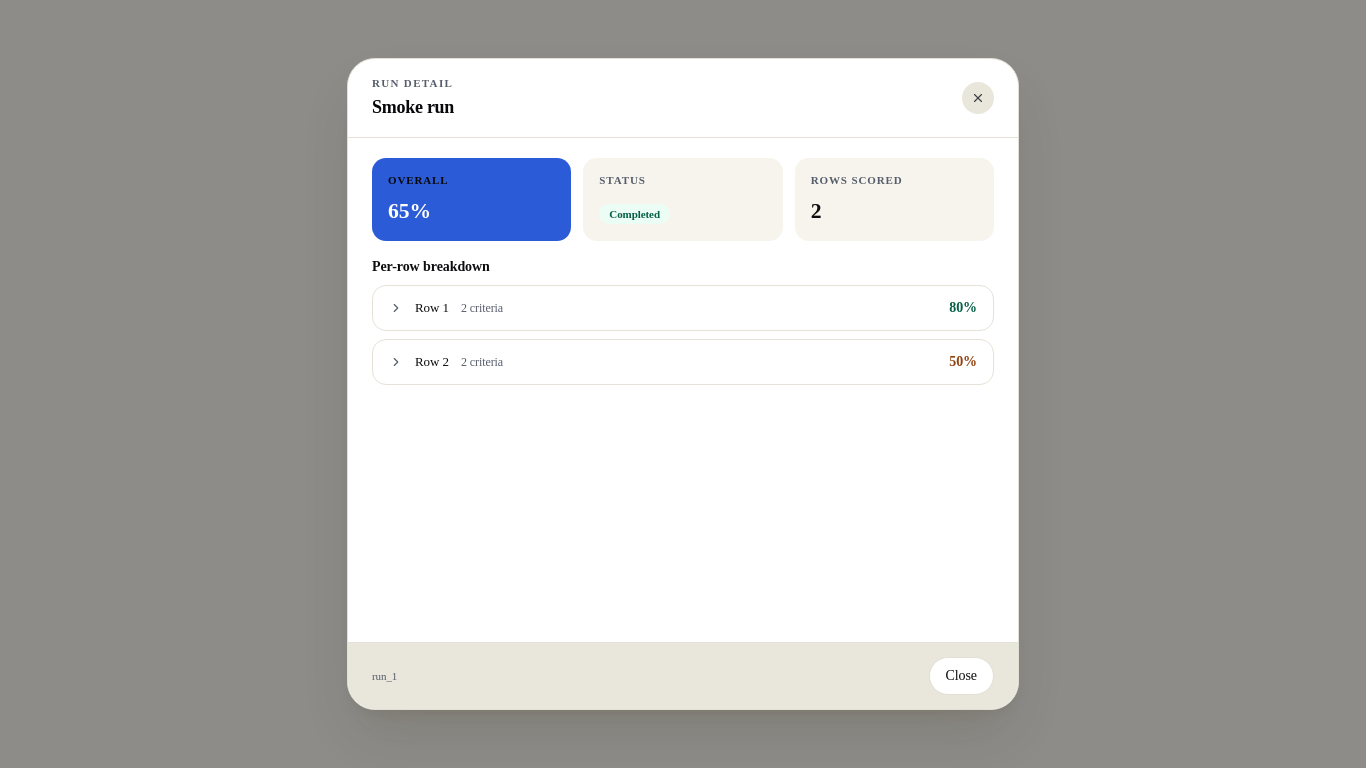
RunDetailModal › reveals per-criterion detail only for the toggled row
Expected: the text "R0 accuracy." is not shown
Click the text "Row 1": coordinates (432, 308) [415,298,449,318]
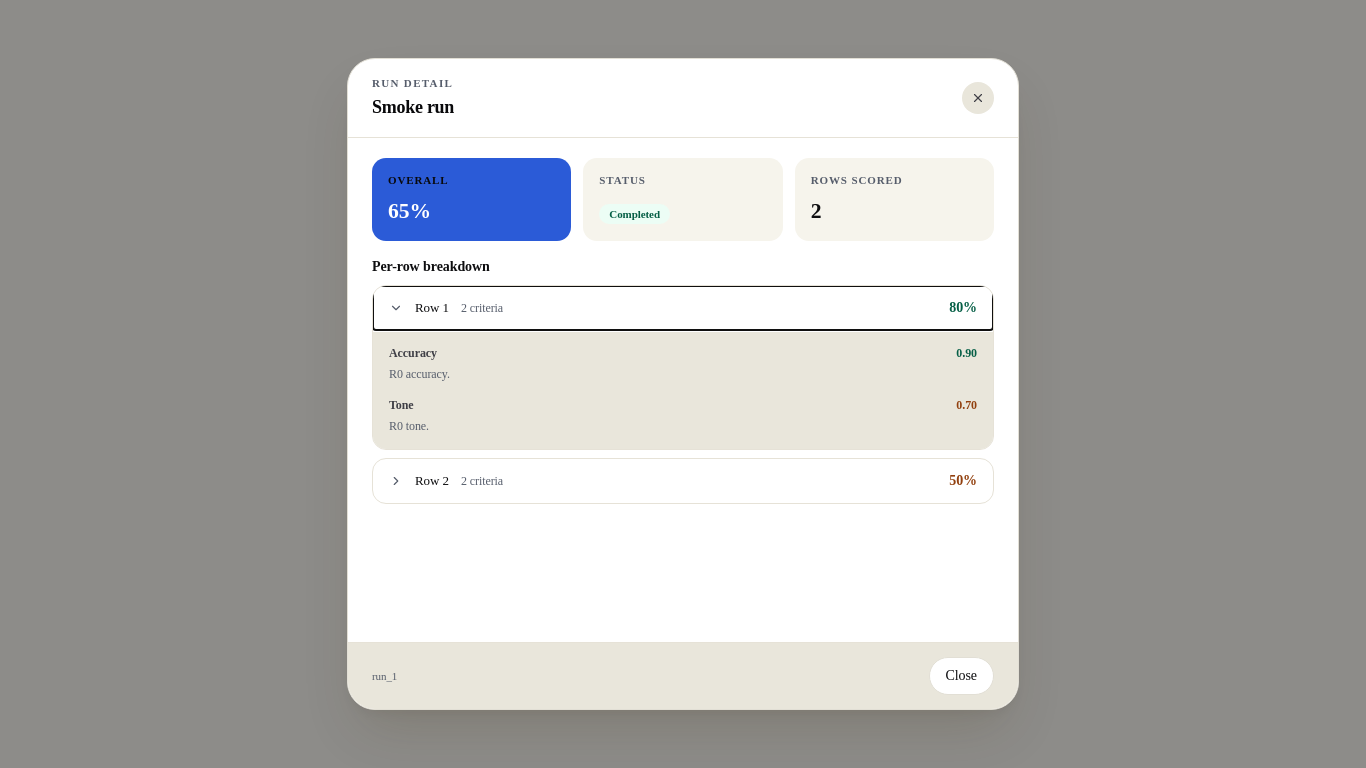
Expected: the text "R0 accuracy." is shown, [389,367,450,381]
Expected: the text "R0 tone." is shown, [389,419,429,433]
// Toggling closed hides it again.
Click the text "Row 1": coordinates (432, 308) [415,298,449,318]
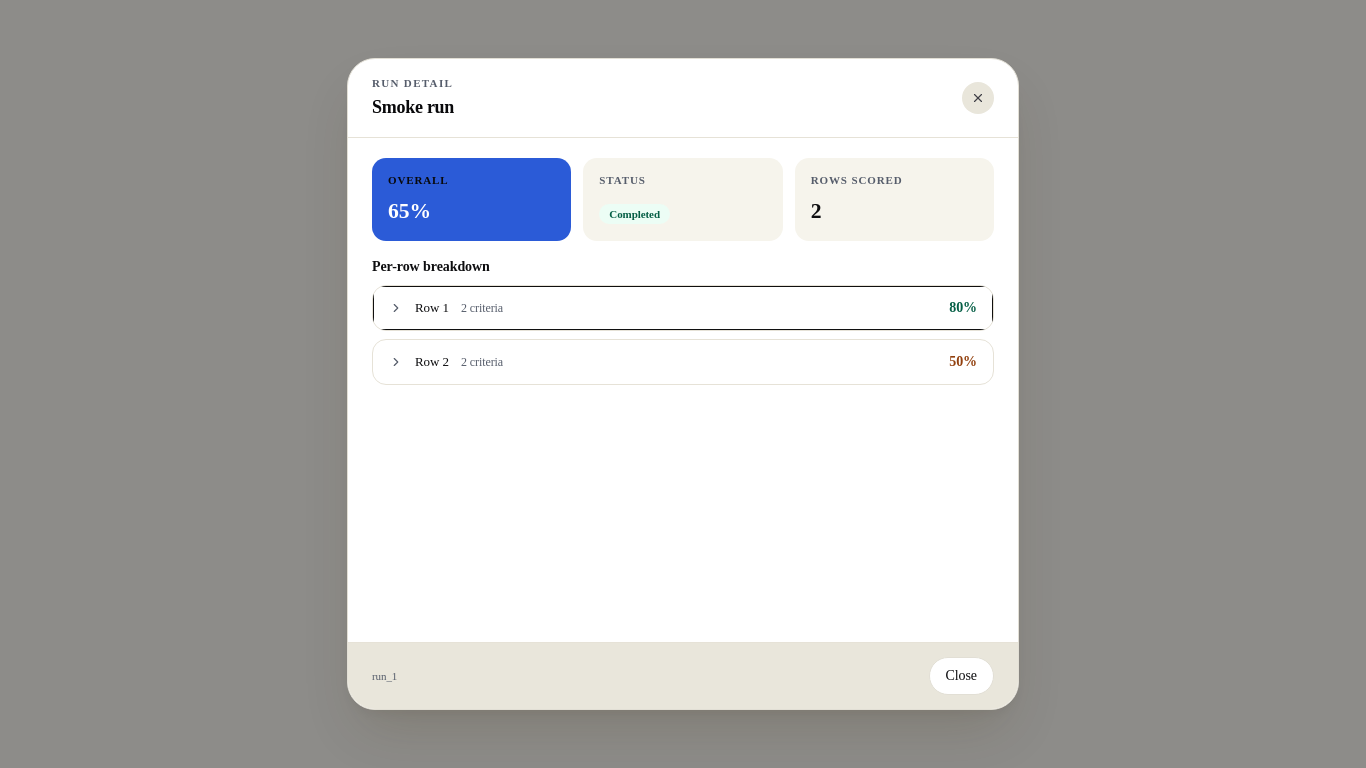
Expected: the text "R0 accuracy." is gone
